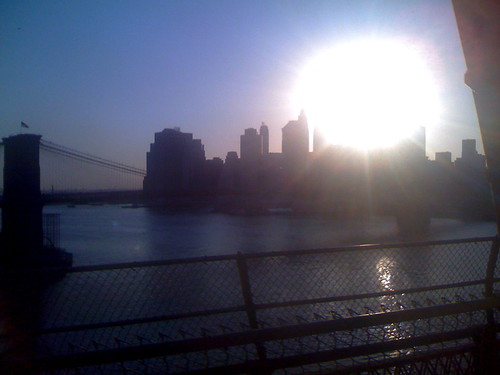bridge: (37, 151, 230, 216)
sea: (72, 210, 500, 330)
sky: (1, 1, 476, 141)
sun: (307, 46, 445, 152)
